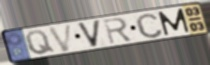C: (134, 12, 165, 39)
M: (156, 7, 191, 37)
Q: (24, 29, 57, 55)
R: (102, 17, 134, 46)
V: (47, 22, 74, 53), (76, 18, 103, 49)
